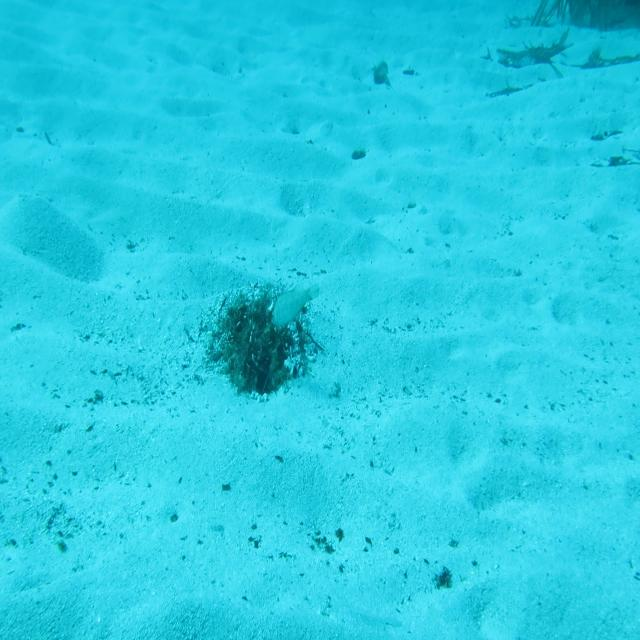LAND: (267, 279, 322, 332)
core_nest: (240, 312, 274, 340)
nest: (204, 279, 316, 415)
